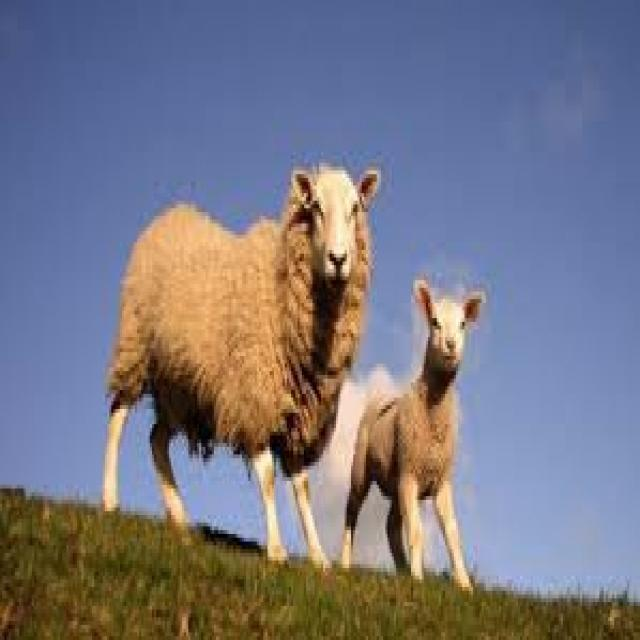sheep: (103, 163, 379, 564), (340, 276, 482, 587)
